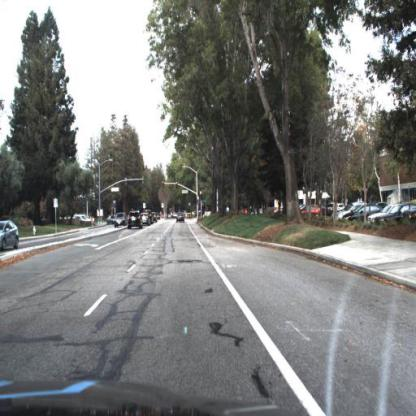car: (342, 202, 384, 228), (367, 202, 406, 229), (1, 220, 21, 254), (125, 208, 145, 231), (114, 211, 129, 233), (174, 210, 188, 224), (129, 213, 141, 229), (116, 214, 127, 230), (142, 213, 149, 226)
